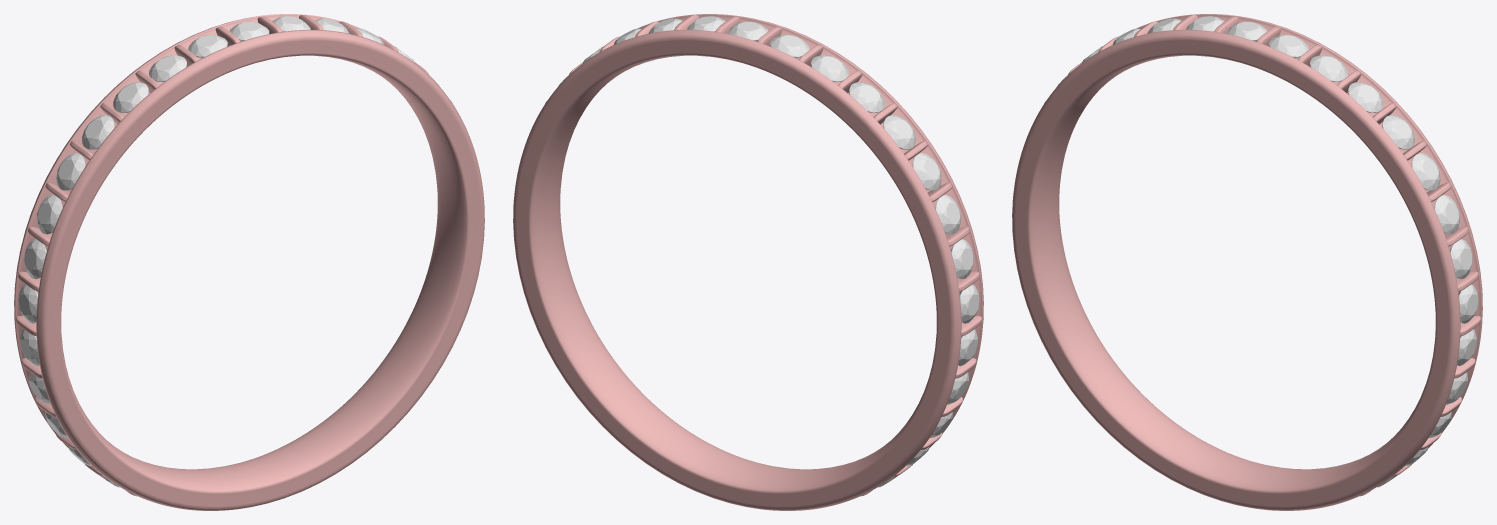
File: full.glb
The picture shows the model from 3 angles, left to right: view 1: azimuth 30°, elevation 25°; view 2: azimuth 150°, elevation 25°; view 3: azimuth 330°, elevation 25°; orthographic projection.
Parts seen in each view (by area): view 1: metal.005, diamond.003, diamond.006; view 2: metal.005, diamond.003, diamond.006; view 3: metal.005, diamond.003, diamond.001.
Boxes of the visible parts, x1,y1,x2,y2 form: metal.005: [14, 14, 484, 510]; diamond.003: [18, 16, 439, 323]; diamond.006: [28, 372, 119, 487]; metal.005: [513, 14, 983, 510]; diamond.003: [558, 16, 979, 323]; diamond.006: [878, 372, 969, 487]; metal.005: [1012, 14, 1482, 510]; diamond.003: [1057, 16, 1478, 323]; diamond.001: [1405, 329, 1476, 465].
Size of the model in its own units: 15.64 by 15.64 by 1.8.
